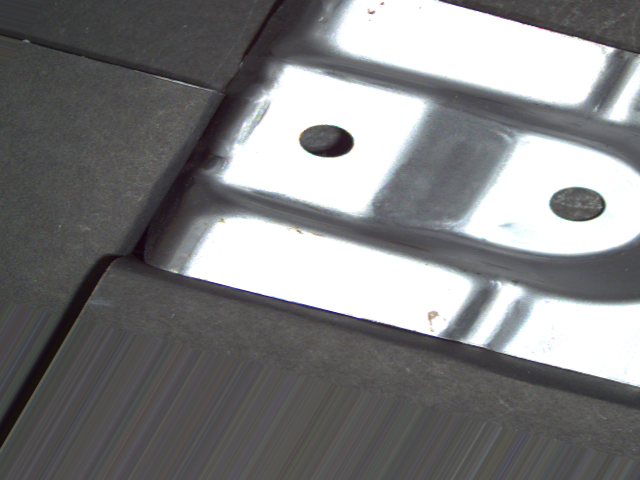defect: (548, 183, 609, 226)
